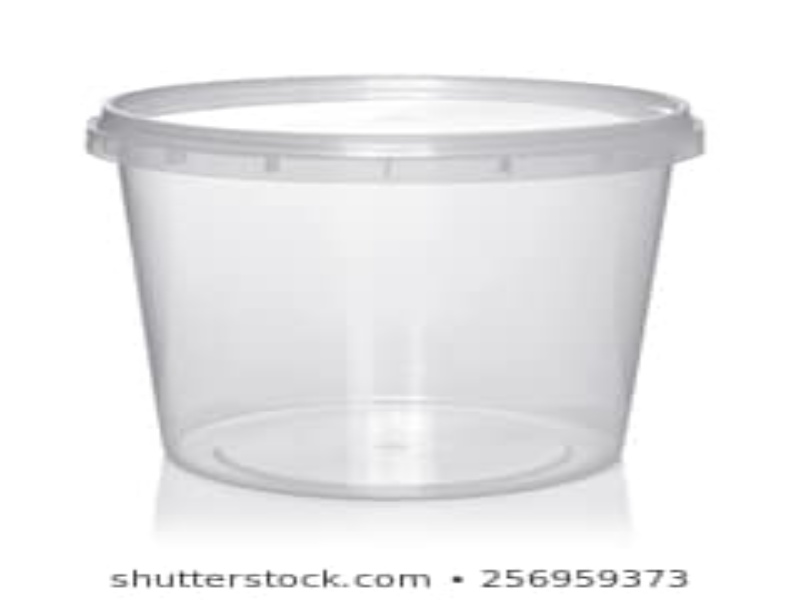plastic-container: (77, 67, 715, 509)
